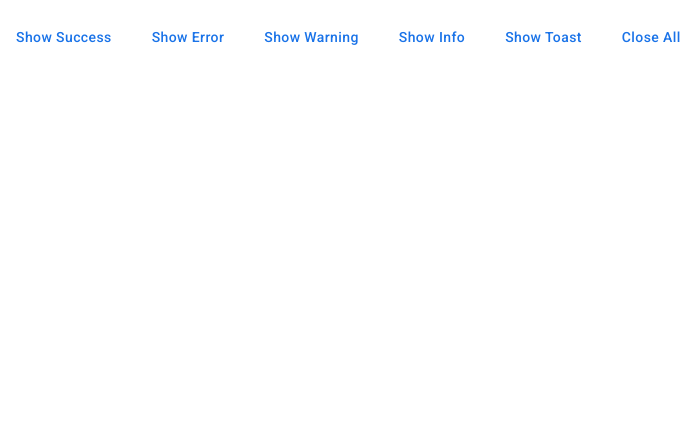
Test: ToastProvider and useToast › showError displays error toast
The width and height of the screenshot is (697, 435).
Click the button "Show Error" at x=188, y=37, box [132,17,244,57]
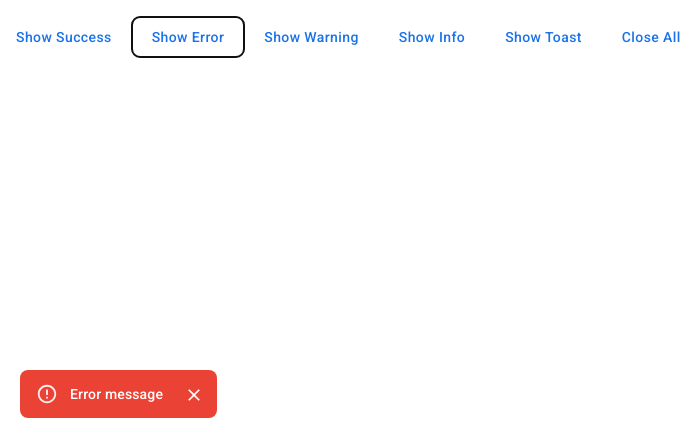
Now the text "Error message" is shown, box [70,386,163,402]
